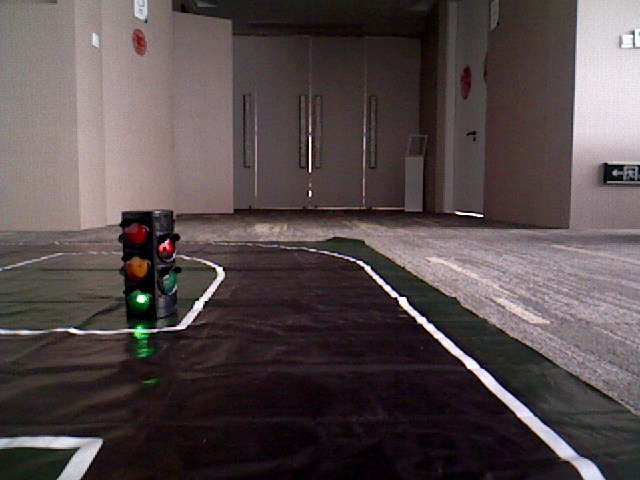green: (122, 216, 158, 316)
